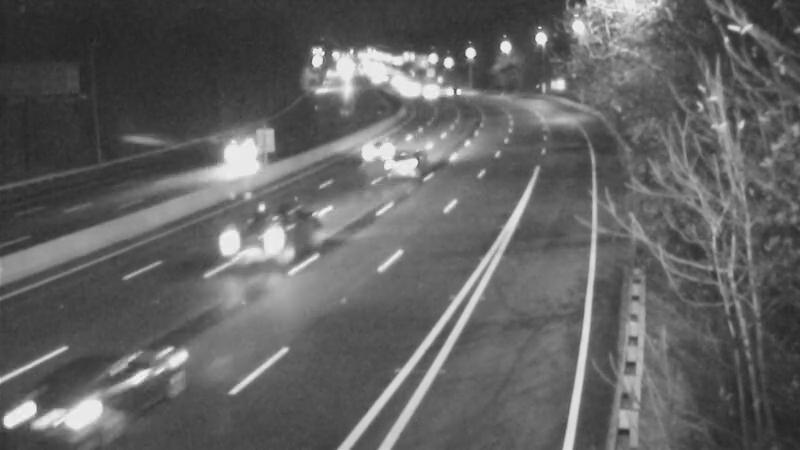vehicle: (1, 350, 109, 450), (370, 123, 450, 203), (207, 205, 287, 285), (196, 118, 276, 198), (428, 66, 478, 116), (404, 67, 454, 117), (386, 65, 436, 115), (353, 124, 403, 174)
